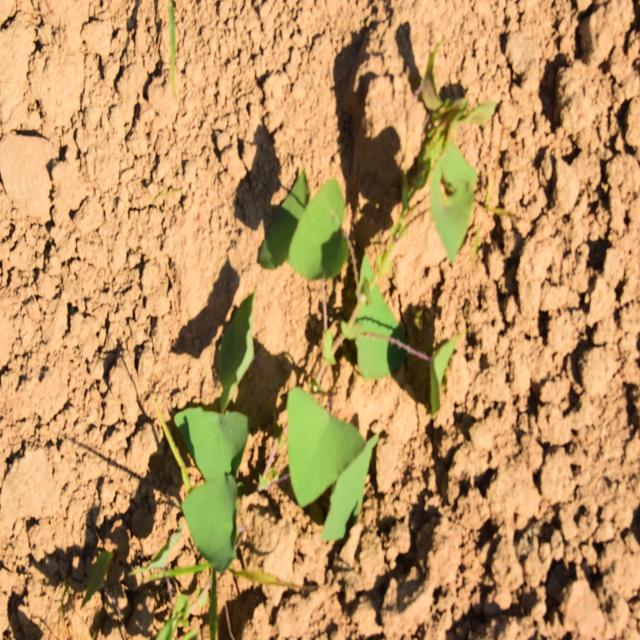Asiatic_Smartweed: (272, 81, 488, 523), (168, 288, 260, 576)
